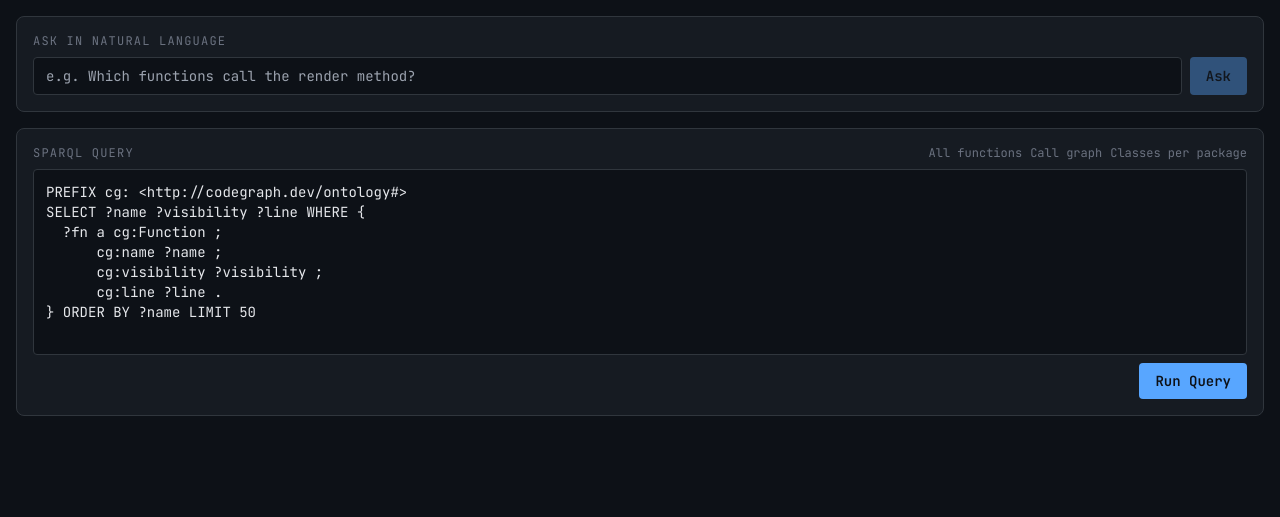
Test: QueryPanel › shows results table after successful query
Click the button "Run Query".
click(1193, 381)  # box left=1139, top=363, right=1247, bottom=399
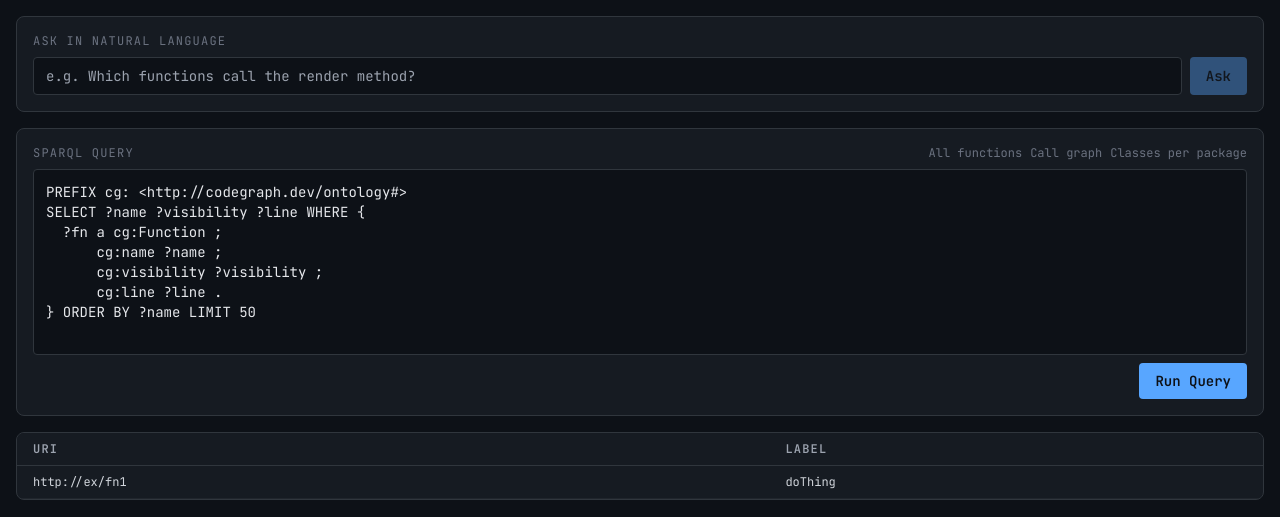
Check: the text "doThing" is shown, box left=769, top=466, right=1263, bottom=498
Check: the column heading "uri" is shown, box left=17, top=433, right=769, bottom=466
